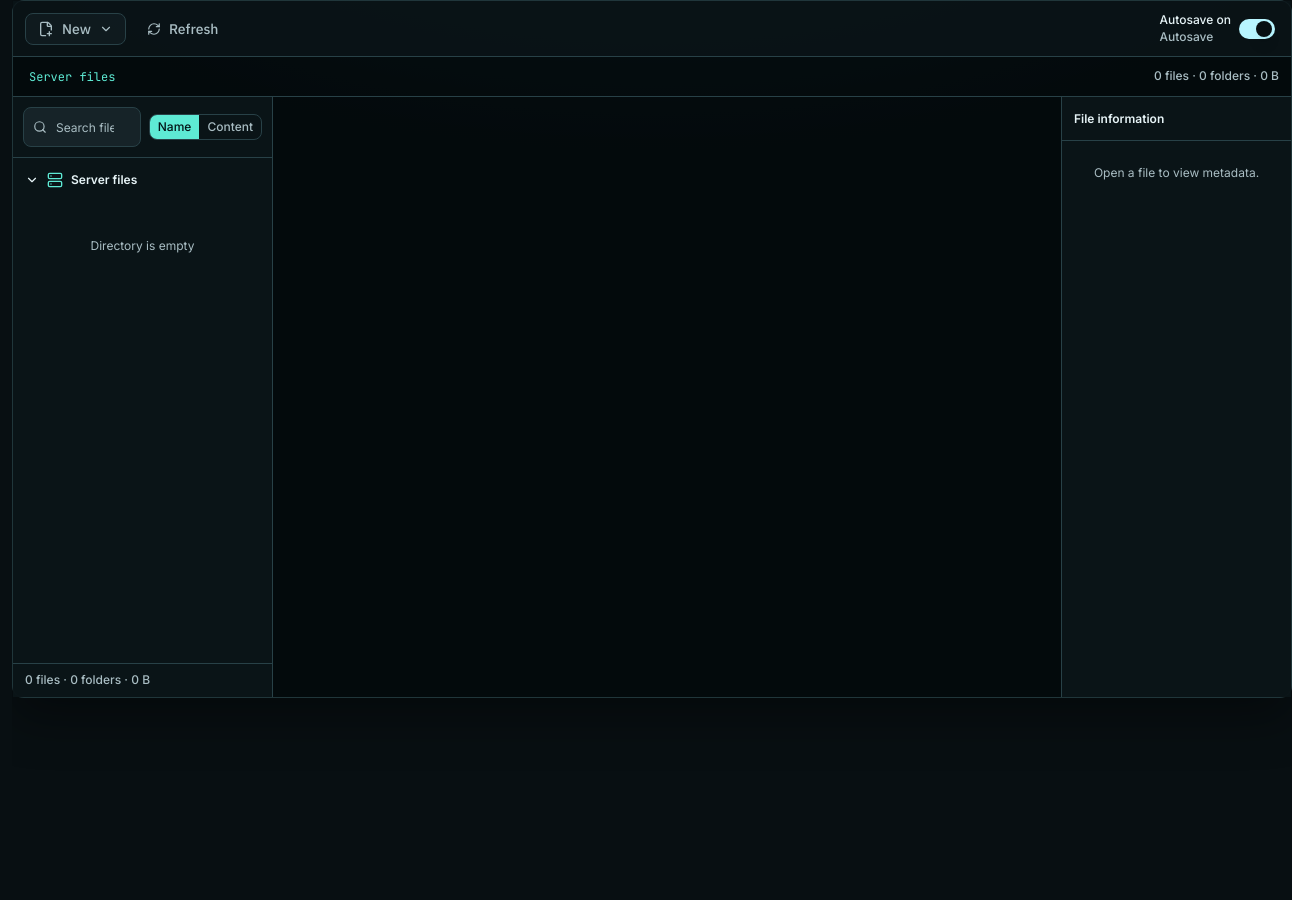
Scenario: FileManager: Dateisuche › zeigt die Treffer der zuletzt getippten Suche, auch wenn die ältere später zurückkommt
The image size is (1292, 900).
Type "ser" into the search field with placeholder "Search files & folders …".
click(82, 127); type("ser")  # box 23,107 -> 141,147
Wait 400 ms
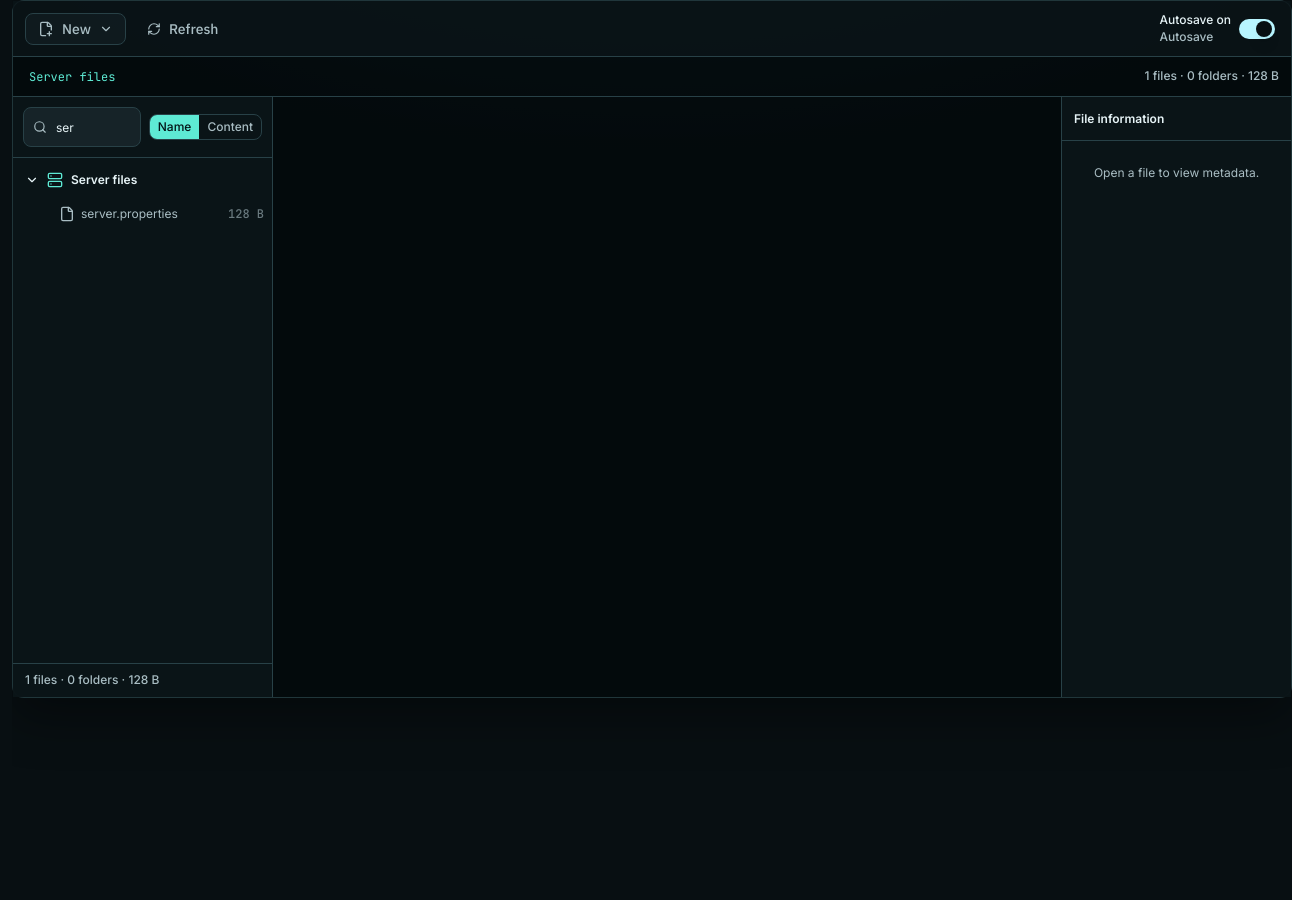
Replace the text in the search field with placeholder "Search files & folders …" with "server" at (82, 127), box 23,107 -> 141,147
Wait 400 ms
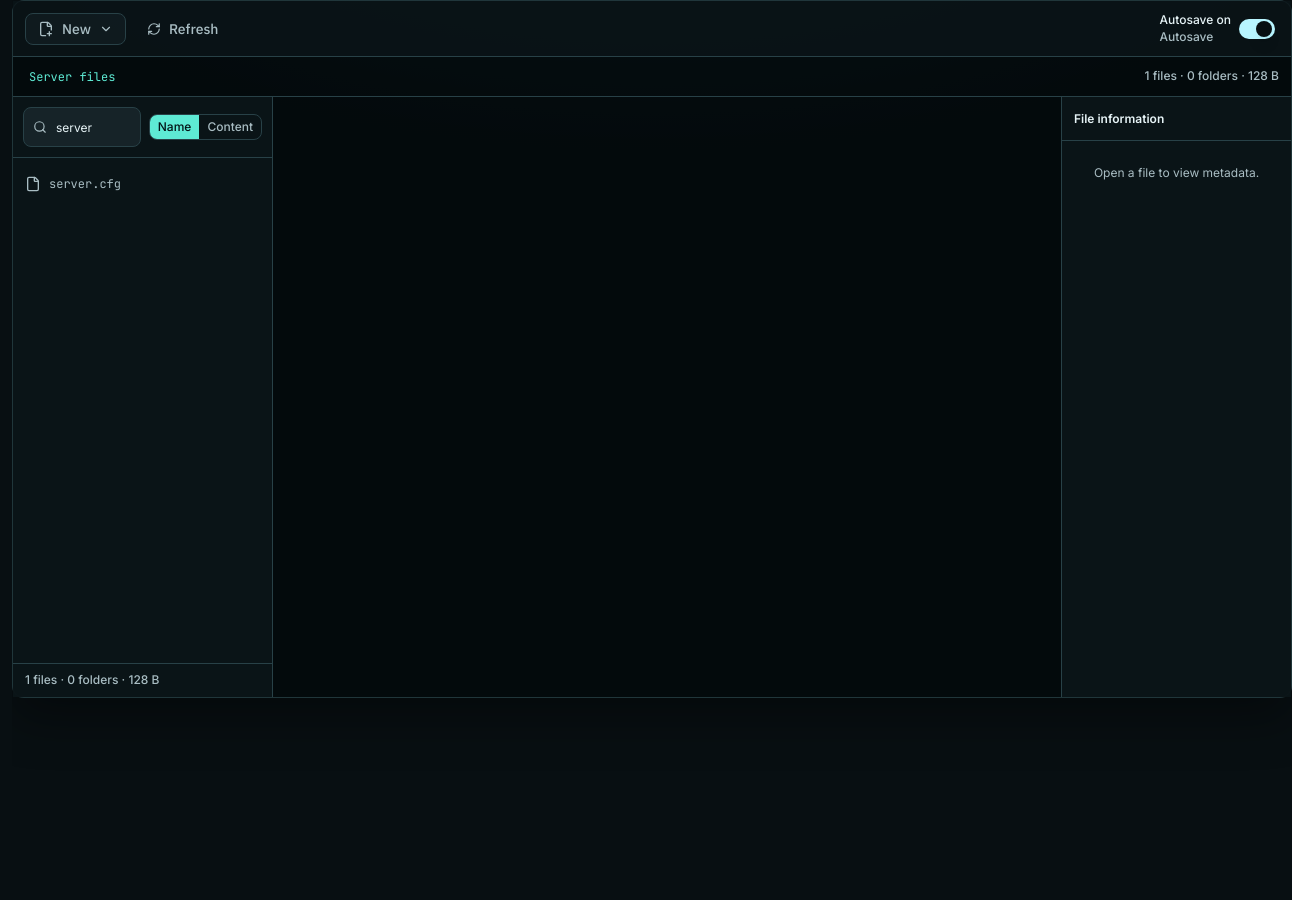
Now the text "server.cfg" is shown, box 49,176 -> 121,192
